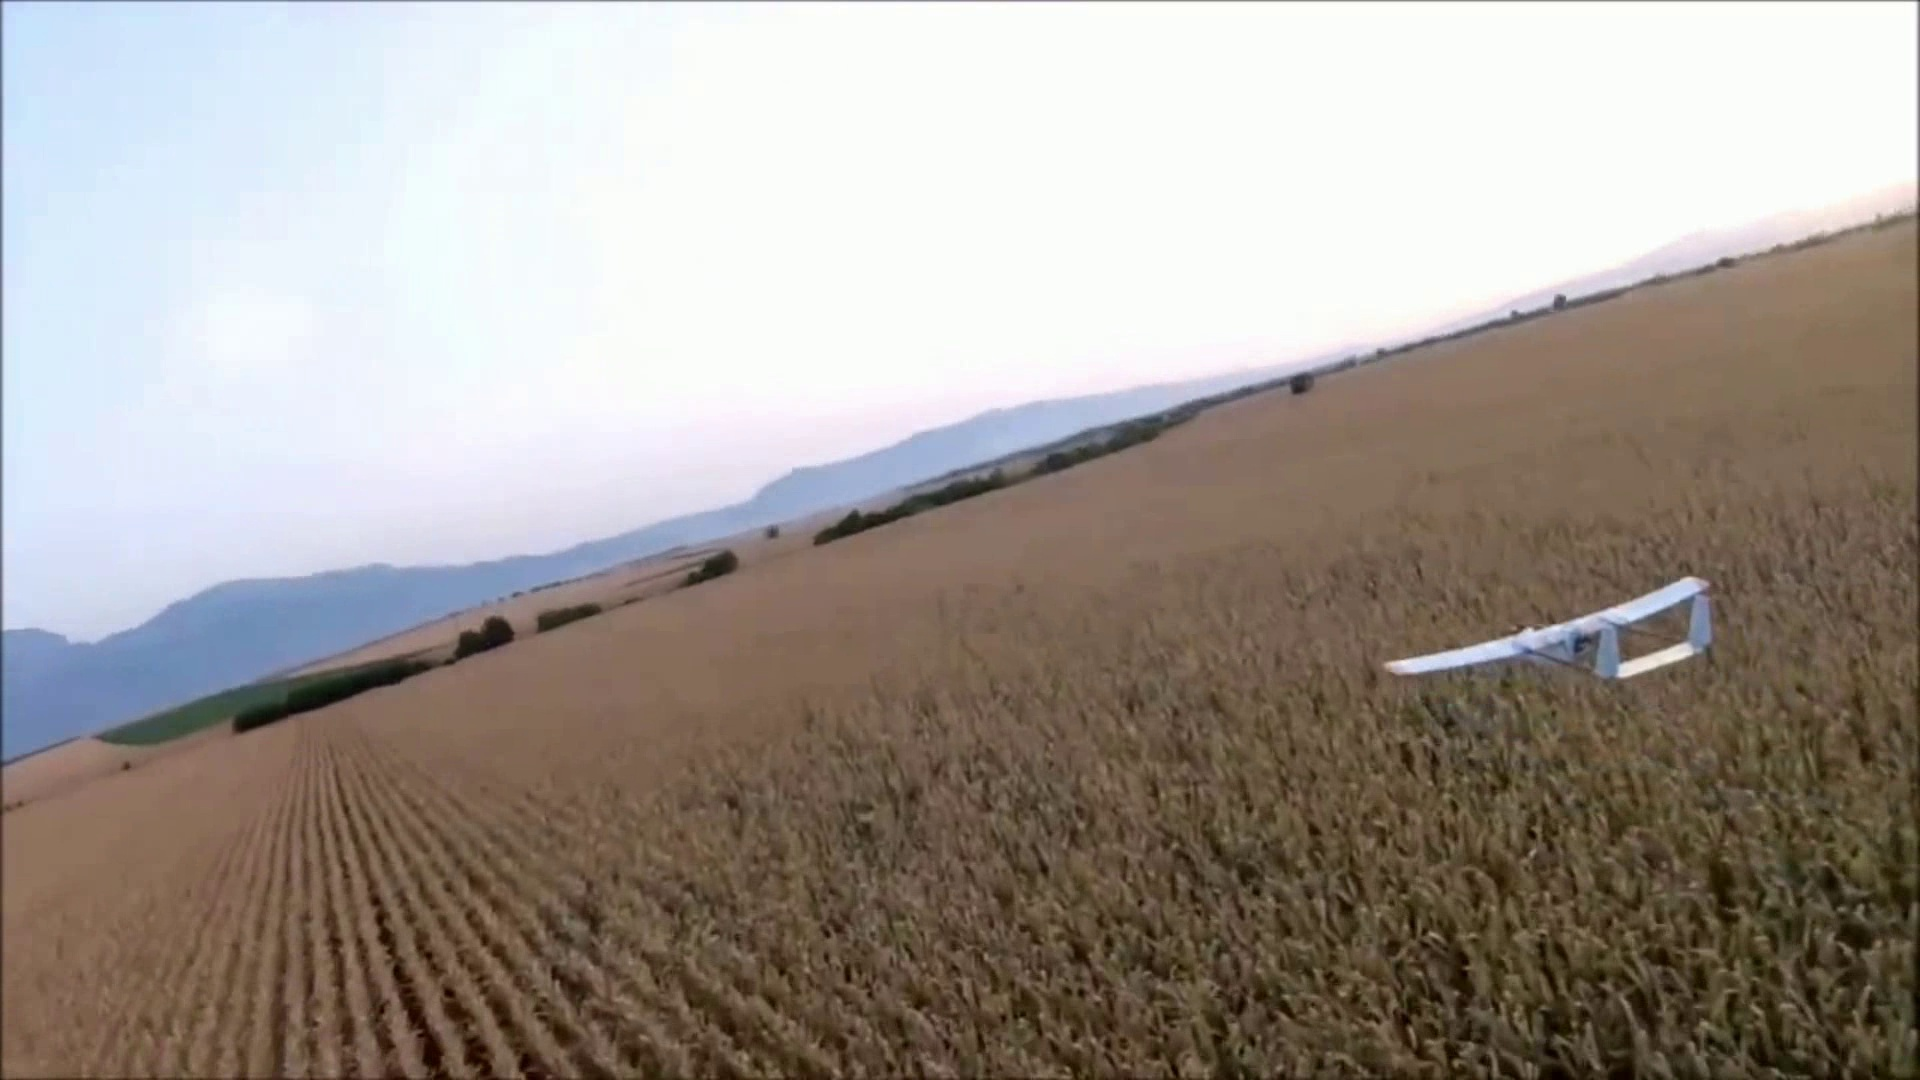airplane: (1382, 578, 1717, 684)
